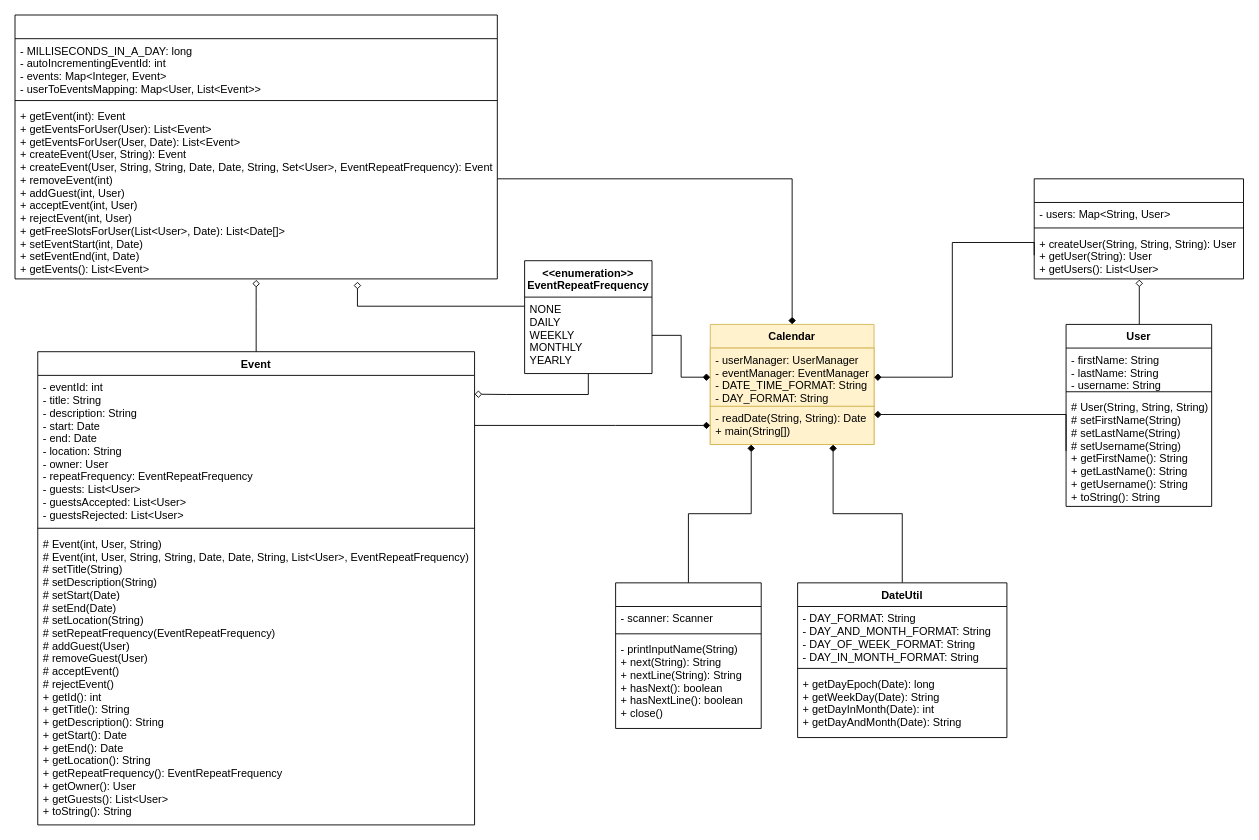
Some shapes in this 1259 by 840 pixel diagram are drawn without their labels. Each missing label, with the box of its shape:
ConsoleInputReader: (615, 582, 761, 728)
EventManager: (14, 14, 497, 279)
UserManager: (1033, 178, 1244, 279)
